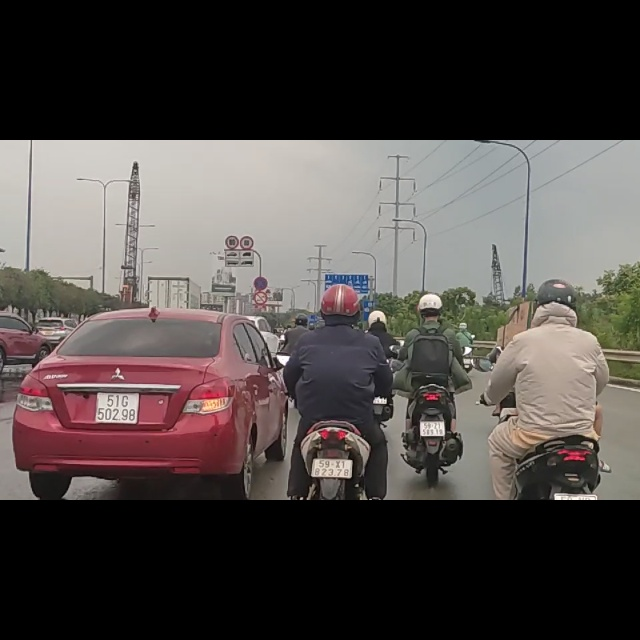bien_cam: (253, 243, 268, 267)
